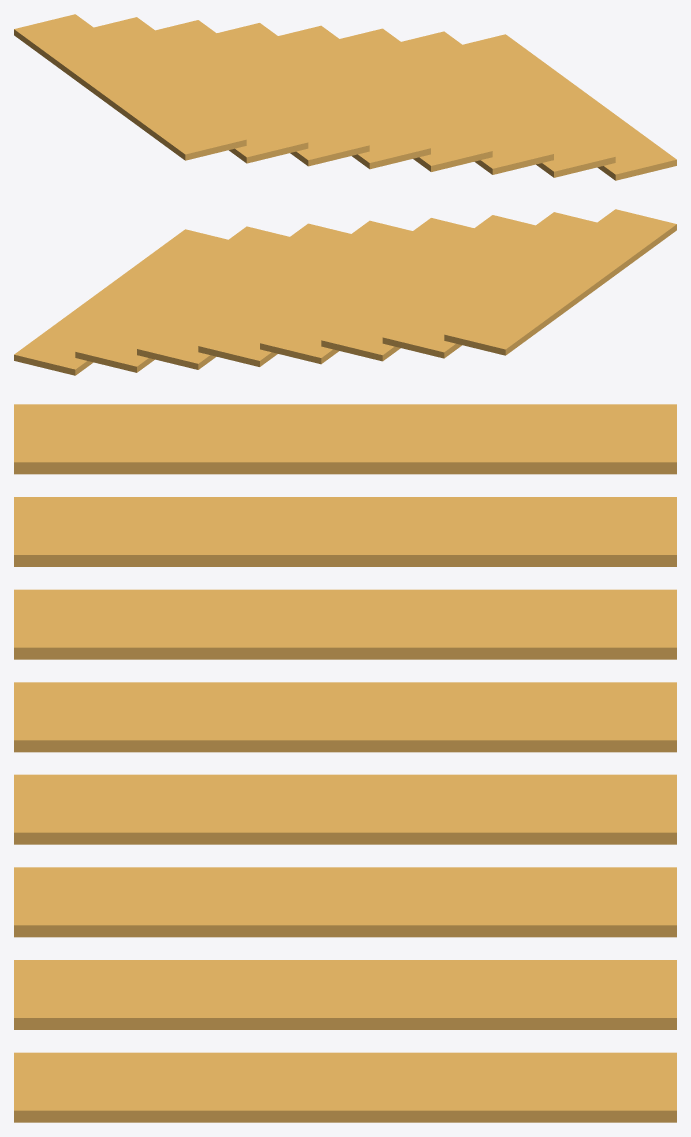
Rendered from OU_AR_MathAnim_01_D.fbx.
The picture shows the model from 3 angles, top to bottom: view 1: azimuth 30°, elevation 25°; view 2: azimuth 150°, elevation 25°; view 3: azimuth 270°, elevation 25°; orthographic projection. The views are drawn at different scales.
Parts seen in each view (by area): view 1: OU_AR_MathAnim_01_D; view 2: OU_AR_MathAnim_01_D; view 3: OU_AR_MathAnim_01_D.
Part boxes in pixels (x1,y1,x2,y2): OU_AR_MathAnim_01_D: [14, 14, 676, 180]; OU_AR_MathAnim_01_D: [14, 209, 676, 375]; OU_AR_MathAnim_01_D: [14, 404, 676, 1122].
Bounding box in the file's own units: 490 × 125 × 296.
